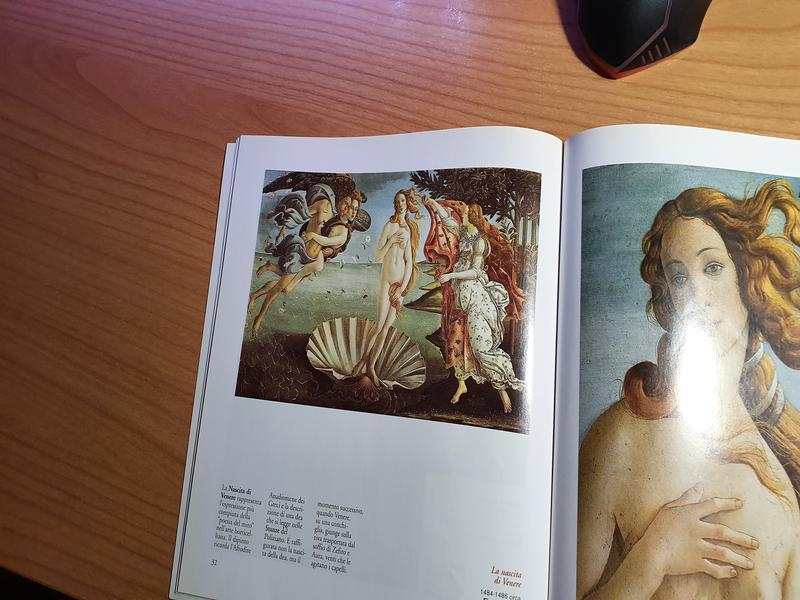Venere: (232, 167, 540, 439)
